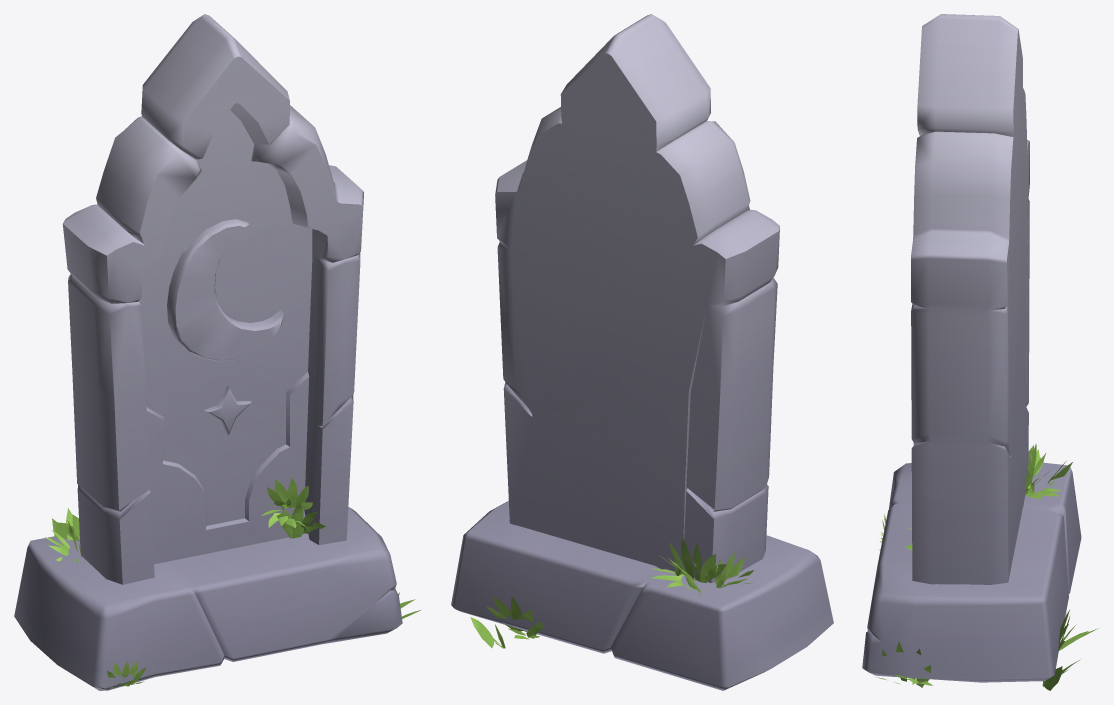
Rendered from WBA_Gravestone_Set_01.fbx.
3 renders of one model, left to right at view 1: azimuth 30°, elevation 25°; view 2: azimuth 150°, elevation 25°; view 3: azimuth 270°, elevation 25°, orthographic.
Visible parts, largest first — view 1: WBA_Gravestone_Set_01; view 2: WBA_Gravestone_Set_01; view 3: WBA_Gravestone_Set_01.
Part boxes in pixels (bbox=[...]): WBA_Gravestone_Set_01: bbox=[14, 14, 420, 690]; WBA_Gravestone_Set_01: bbox=[451, 14, 833, 690]; WBA_Gravestone_Set_01: bbox=[862, 14, 1098, 690].
Size of the model in its own units: 46.88 by 86.06 by 29.62.
